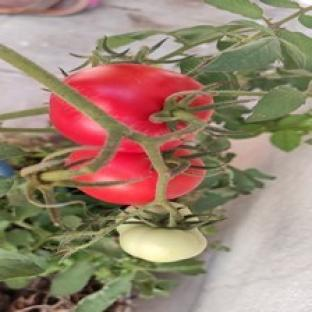Tomato: (65, 65, 201, 136), (74, 152, 157, 204), (117, 223, 207, 261), (0, 161, 13, 176)
